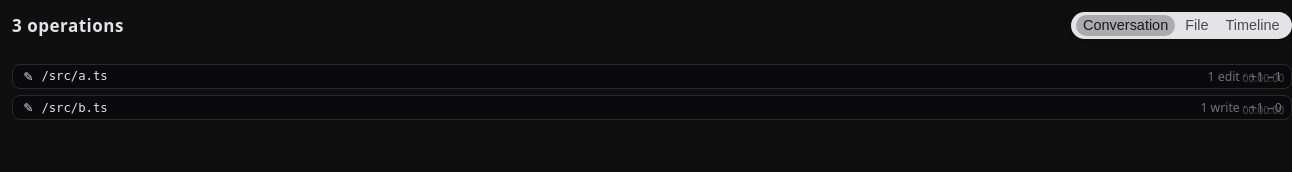
Test: <OpStripLightbox> › clicking a file in the tree switches the right pane
Click the button "File" at (1197, 26), box [1178,15,1215,36]
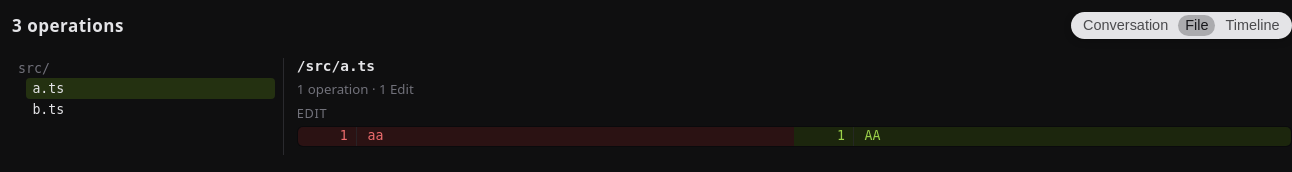
Click the button "b.ts" at (150, 110), box [26,99,274,120]
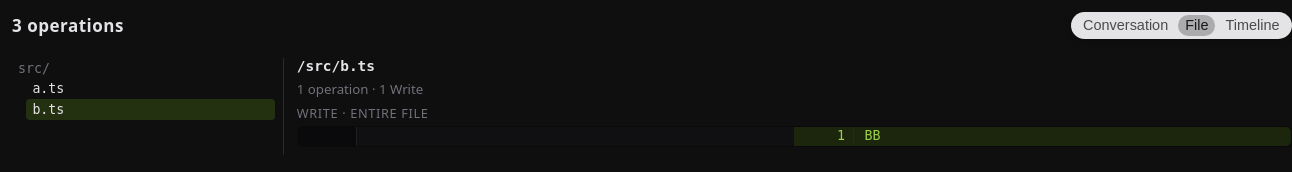
Check: the text "Write · entire file" is shown, box [297,104,428,122]
